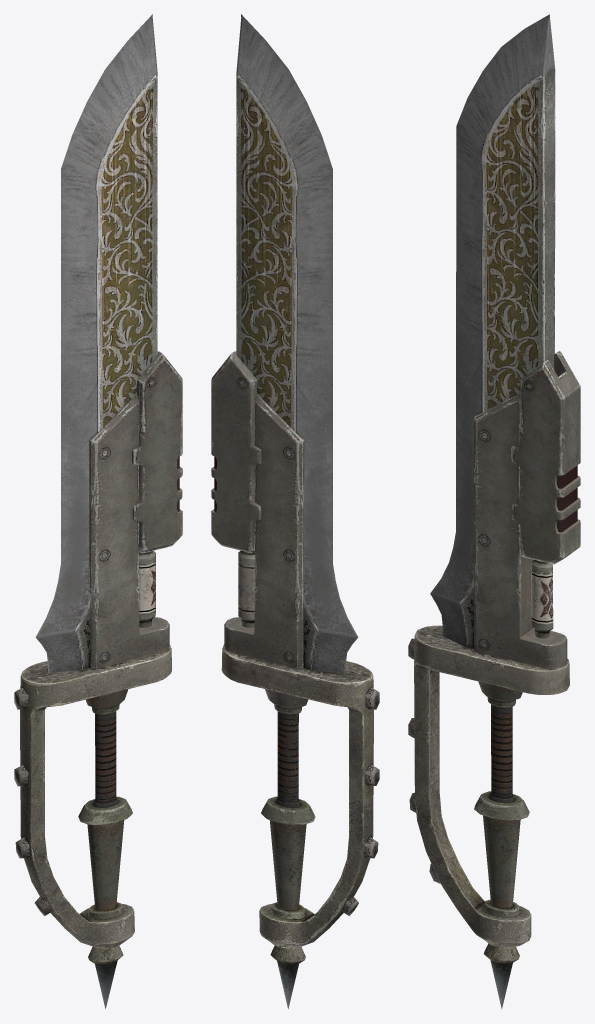
The model's file is bs_caxe012.obj.
3 renders of one model, left to right at view 1: azimuth 30°, elevation 25°; view 2: azimuth 150°, elevation 25°; view 3: azimuth 330°, elevation 25°, orthographic. The views are drawn at different scales.
Parts seen in each view (by area): view 1: bs_caxe012_001_LOD_1, bs_caxe012_000_LOD_1; view 2: bs_caxe012_001_LOD_1, bs_caxe012_000_LOD_1; view 3: bs_caxe012_001_LOD_1, bs_caxe012_000_LOD_1.
Boxes of the visible parts, box(x1,y1,x2,y2) form: bs_caxe012_001_LOD_1: box(14, 14, 182, 948); bs_caxe012_000_LOD_1: box(88, 945, 123, 1008); bs_caxe012_001_LOD_1: box(211, 14, 379, 948); bs_caxe012_000_LOD_1: box(270, 945, 305, 1008); bs_caxe012_001_LOD_1: box(408, 14, 580, 947); bs_caxe012_000_LOD_1: box(484, 943, 519, 1009).
Size of the model in its own units: 43.98 by 263 by 12.59.
